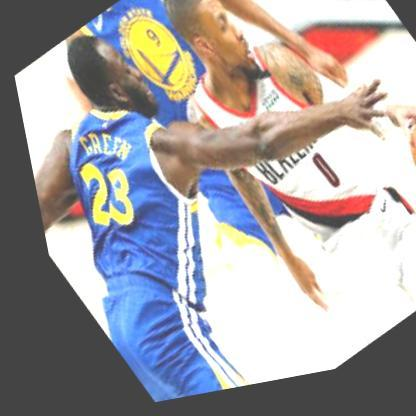basketball: (380, 117, 416, 250)
